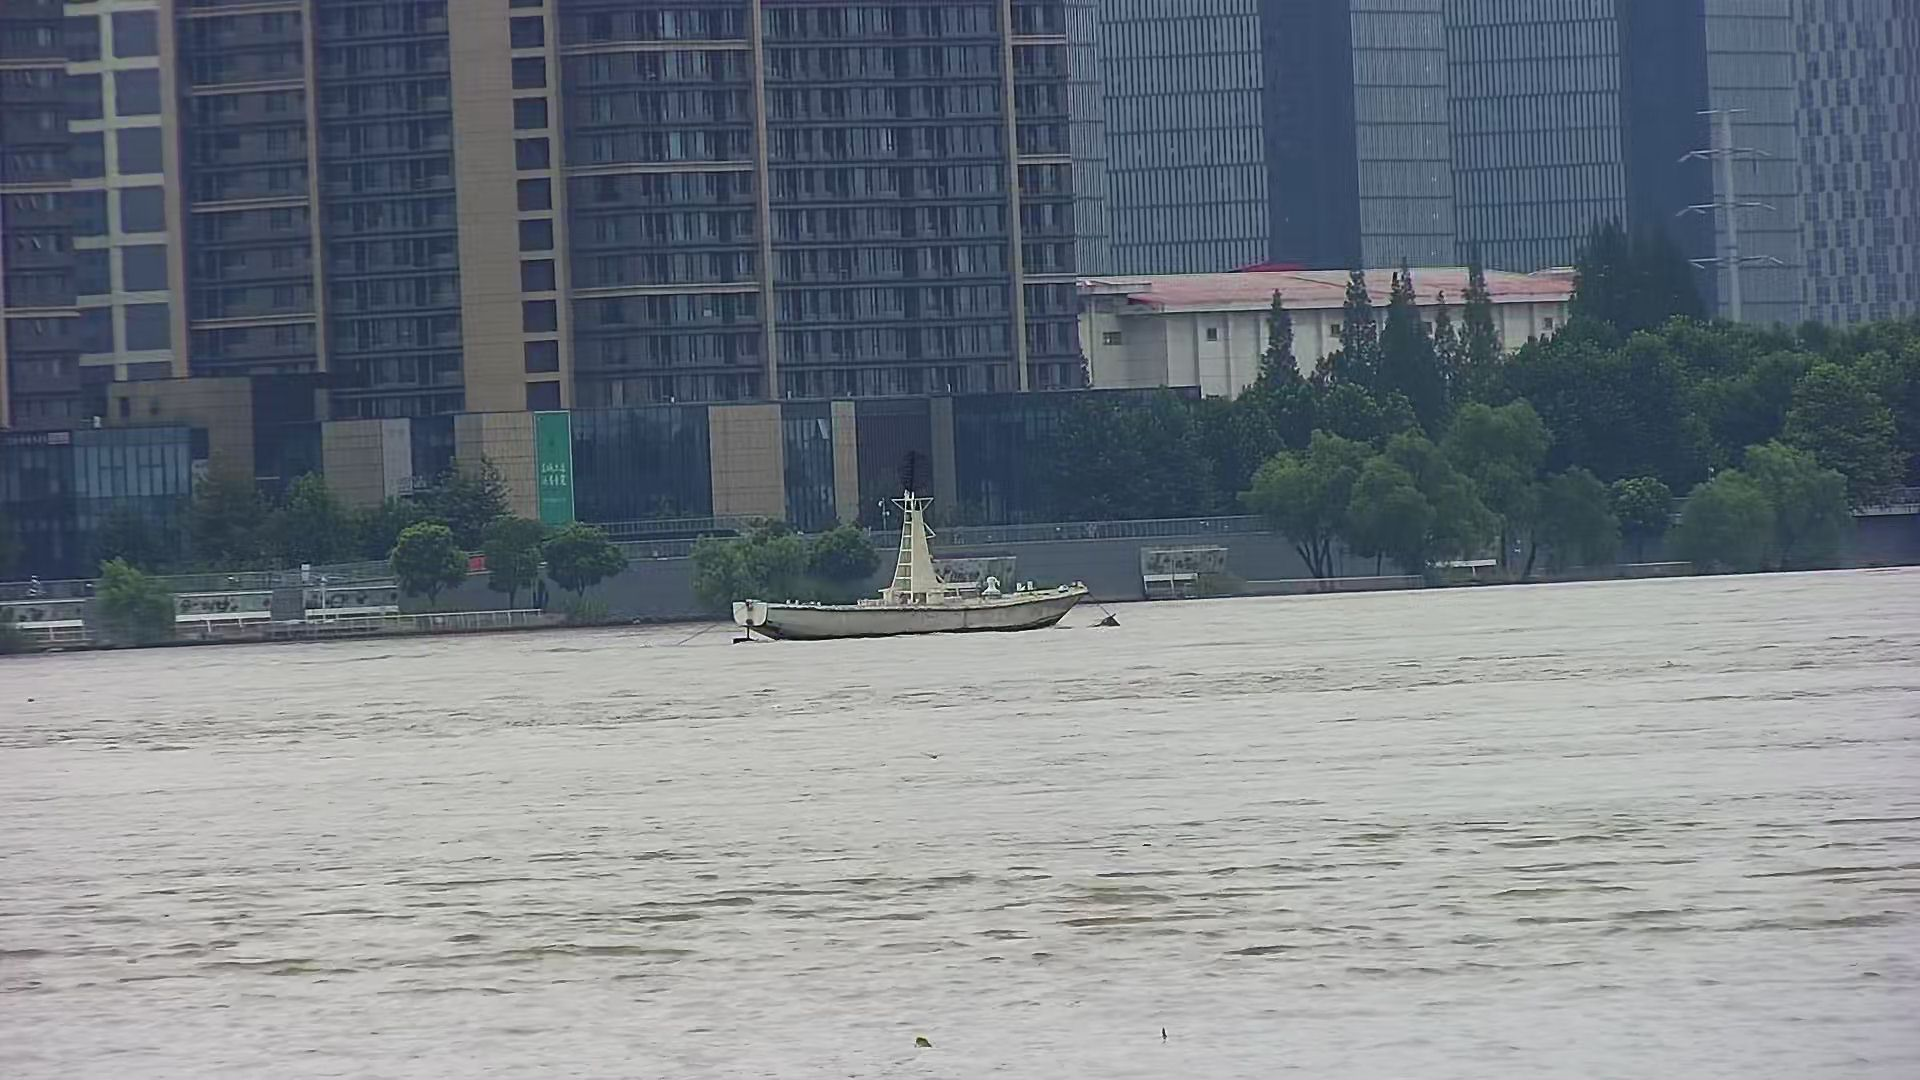boat: (702, 477, 1137, 646)
